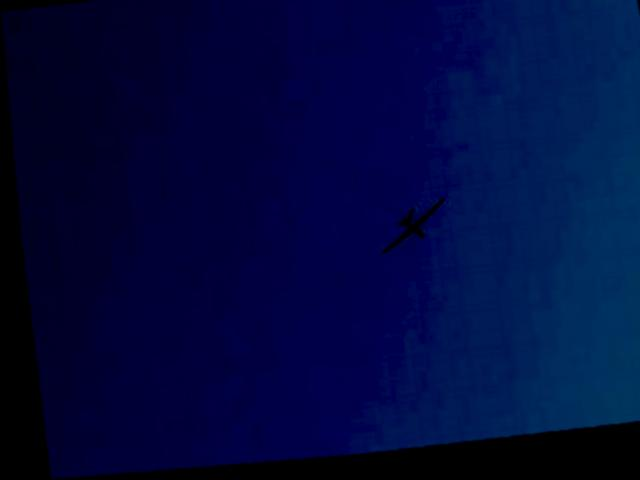uav: (365, 192, 456, 278)
